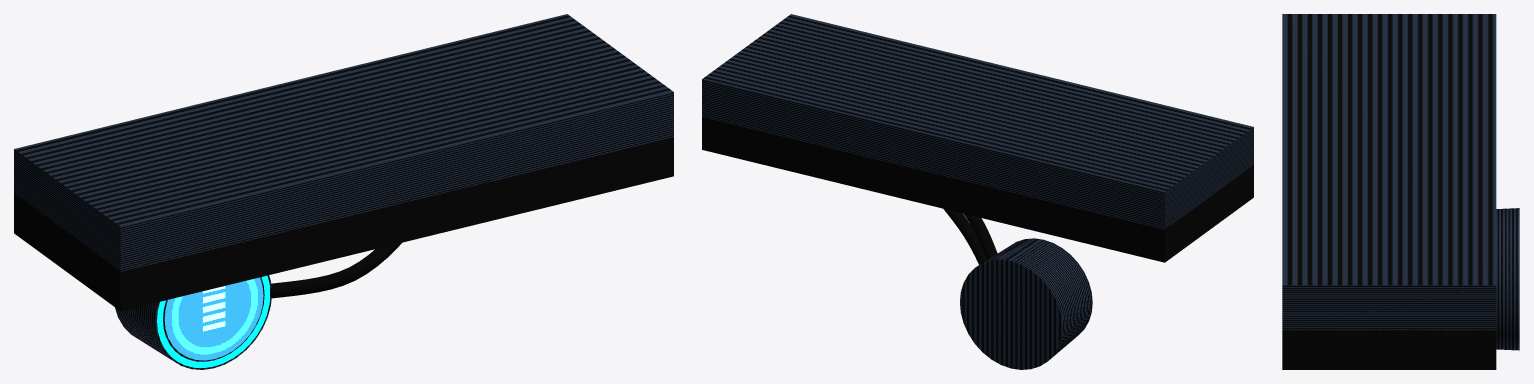
File: nzxt-kraken-360.glb
The picture shows the model from 3 angles, left to right: view 1: azimuth 30°, elevation 25°; view 2: azimuth 150°, elevation 25°; view 3: azimuth 270°, elevation 25°; orthographic projection. The views are drawn at different scales.
Parts seen in each view (by area): view 1: RadiatorCore360, RadFan_0_TopBar, RadFan_1_TopBar, RadFan_2_TopBar, LCD_PumpDisplay42C, RadFan_0_LeftBar, PumpHousing, AioTube1, RGB_PumpInfinityRing; view 2: RadiatorCore360, PumpHousing, RadFan_0_BotBar, RadFan_1_BotBar, RadFan_2_BotBar, RadFan_0_LeftBar, AioTube1, AioTube2; view 3: RadiatorCore360, RadFan_2_RightBar, PumpHousing, RadFan_2_BotBar, RadFan_2_TopBar.
Boxes of the visible parts, bbox=[...] form: RadiatorCore360: bbox=[14, 14, 673, 271]; RadFan_0_TopBar: bbox=[113, 226, 304, 311]; RadFan_1_TopBar: bbox=[305, 181, 489, 266]; RadFan_2_TopBar: bbox=[489, 137, 673, 221]; LCD_PumpDisplay42C: bbox=[164, 277, 263, 360]; RadFan_0_LeftBar: bbox=[21, 199, 113, 305]; PumpHousing: bbox=[115, 275, 271, 369]; AioTube1: bbox=[270, 243, 401, 298]; RGB_PumpInfinityRing: bbox=[157, 275, 269, 367]; RadiatorCore360: bbox=[702, 14, 1253, 229]; PumpHousing: bbox=[960, 238, 1092, 369]; RadFan_0_BotBar: bbox=[1010, 192, 1170, 262]; RadFan_1_BotBar: bbox=[856, 154, 1010, 224]; RadFan_2_BotBar: bbox=[702, 117, 856, 187]; RadFan_0_LeftBar: bbox=[1170, 169, 1247, 257]; AioTube1: bbox=[943, 209, 986, 264]; AioTube2: bbox=[963, 213, 997, 259]; RadiatorCore360: bbox=[1282, 14, 1496, 330]; RadFan_2_RightBar: bbox=[1296, 329, 1481, 369]; PumpHousing: bbox=[1496, 208, 1519, 350]; RadFan_2_BotBar: bbox=[1482, 329, 1496, 369]; RadFan_2_TopBar: bbox=[1282, 330, 1296, 369].
Size of the model in its own units: 3.6 by 1.52 by 1.33.
Materials: 9 (6 with a texture image).
